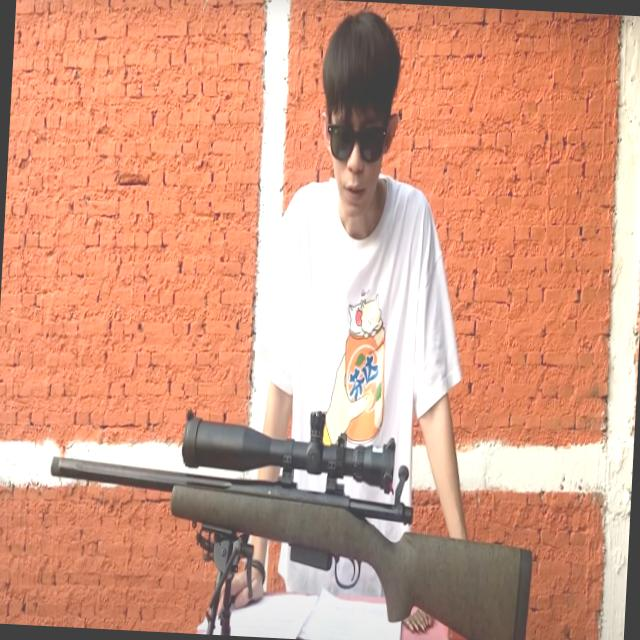rifle: (36, 390, 537, 640)
